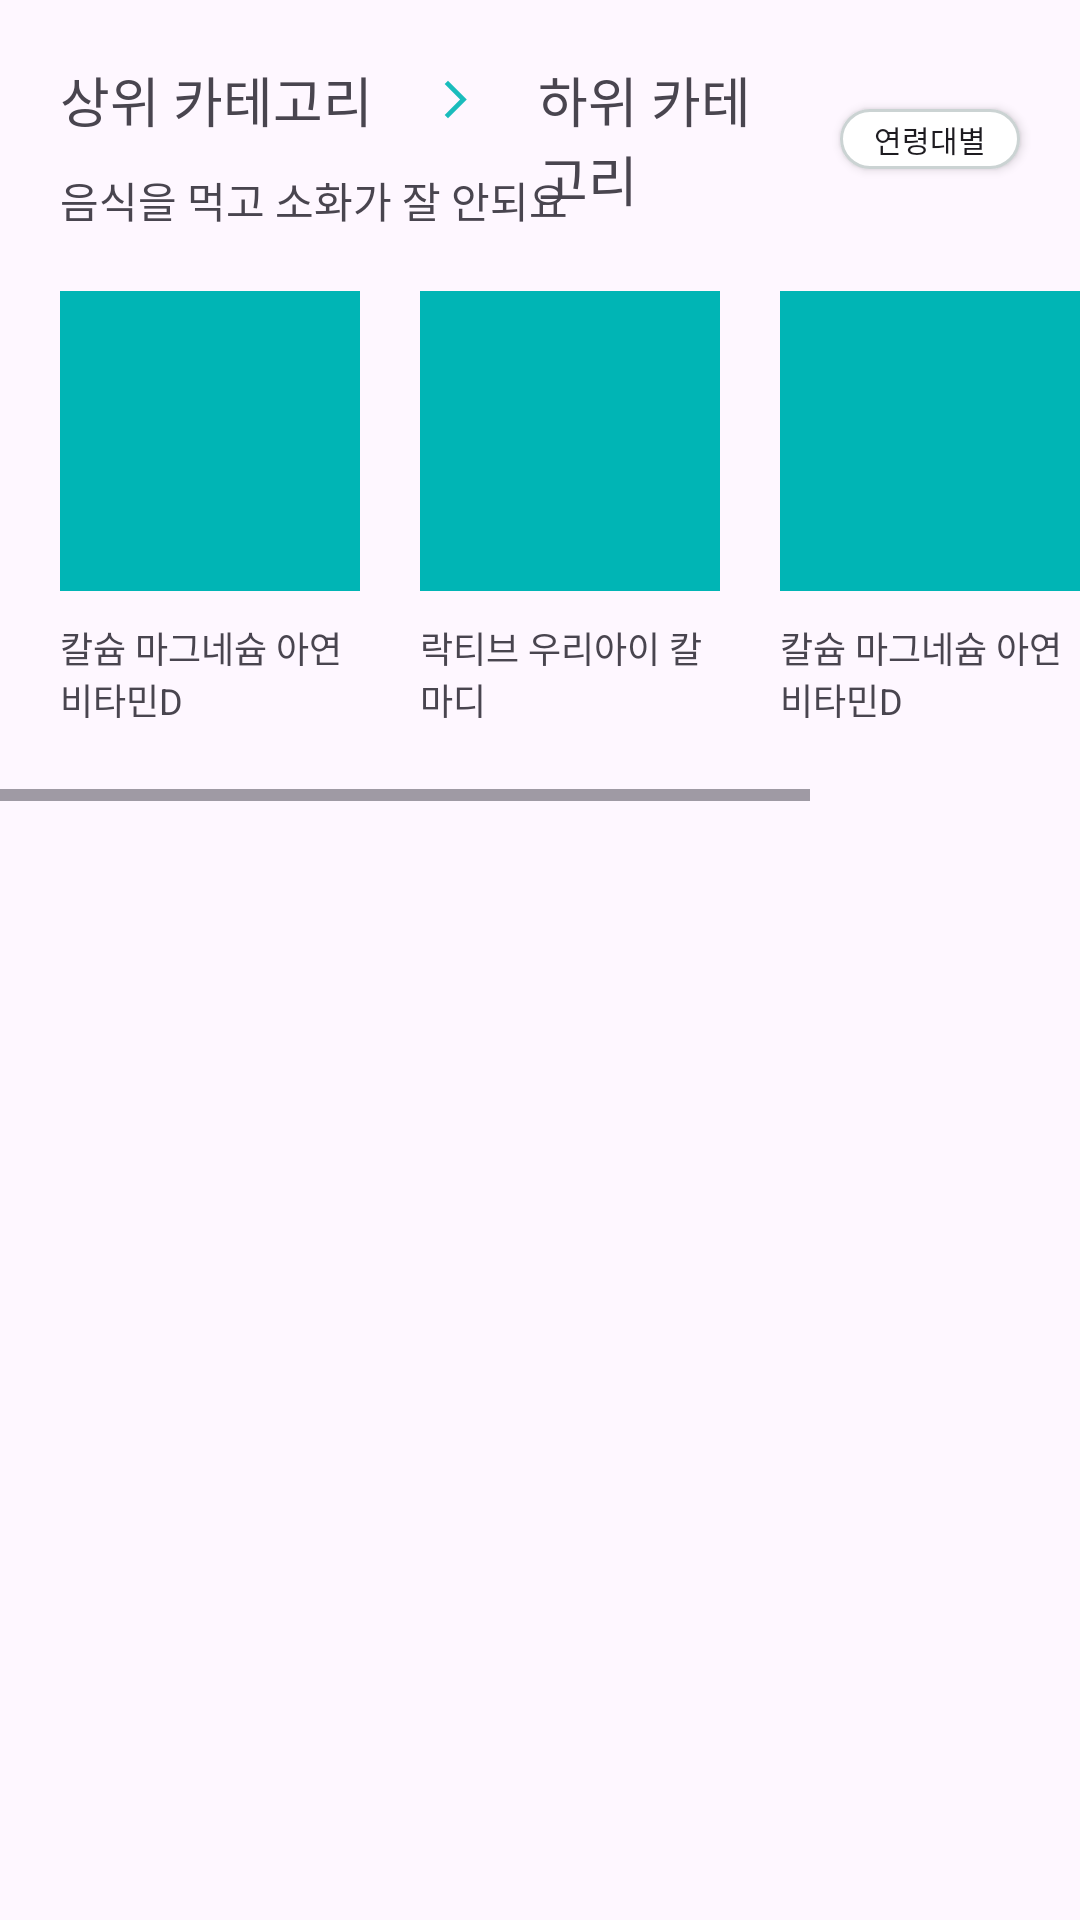

Named icons in this screenshot (1080w x 1920h) and their centers, (x=x, y=y):
arrow forward: (x=456, y=99)
